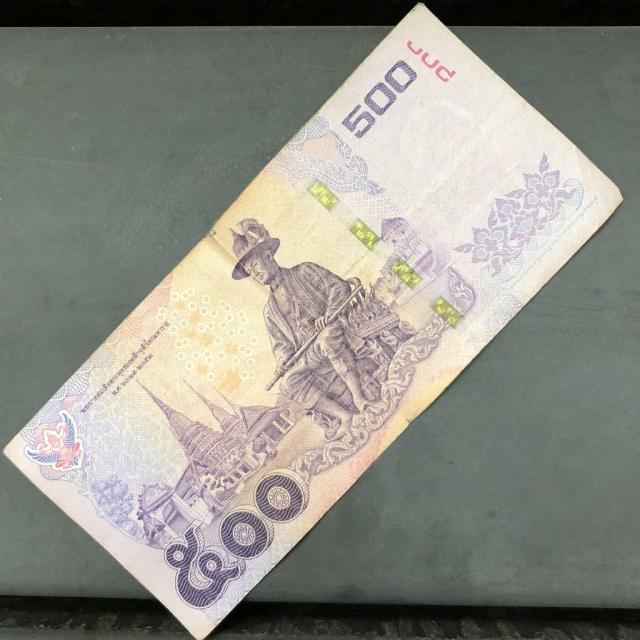THAI500: (3, 6, 622, 639)
